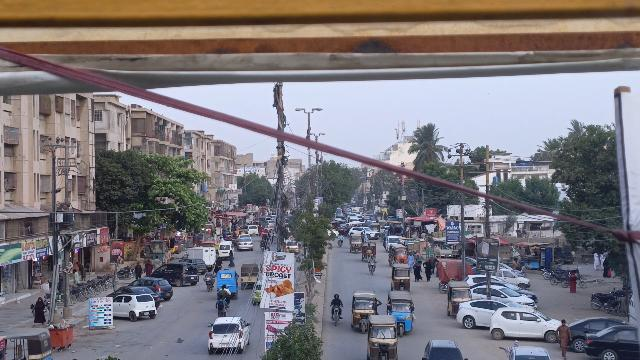Bike: (330, 304, 344, 327), (203, 280, 214, 293), (369, 261, 377, 276), (215, 310, 226, 319)
Car: (489, 305, 560, 343), (455, 298, 519, 330), (203, 316, 253, 356), (565, 314, 614, 353), (583, 326, 639, 359), (114, 292, 157, 321), (420, 336, 471, 360), (155, 261, 199, 288), (132, 277, 176, 299)
Person: (553, 318, 574, 357), (31, 295, 48, 327), (422, 257, 433, 285), (411, 259, 422, 281), (215, 294, 228, 310), (330, 294, 344, 307), (205, 268, 214, 279), (368, 254, 377, 263)
Rickshaw: (363, 315, 401, 360), (387, 289, 416, 337), (350, 290, 379, 332), (445, 280, 470, 316), (215, 270, 240, 299), (389, 261, 411, 291), (239, 262, 260, 289)
Truck: (186, 244, 217, 268)
